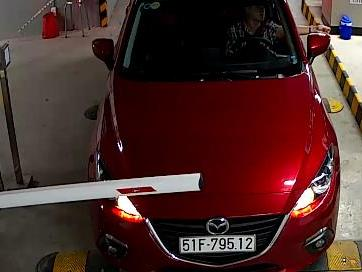car: (176, 233, 258, 255)
